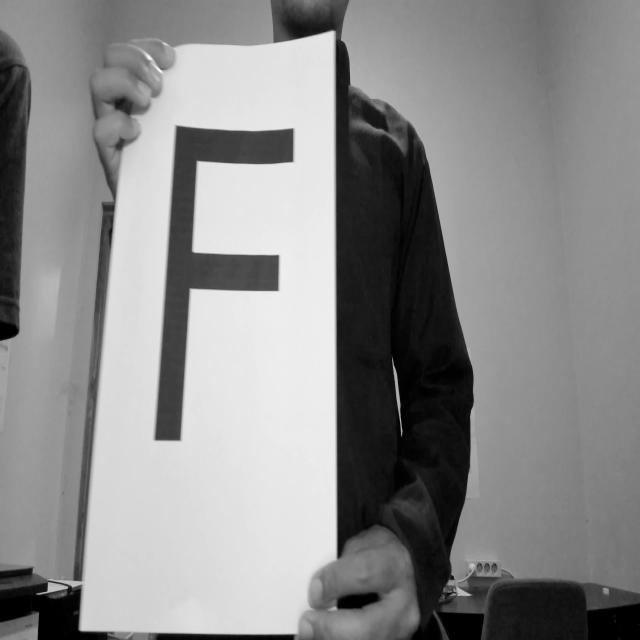f: (147, 100, 310, 464)
